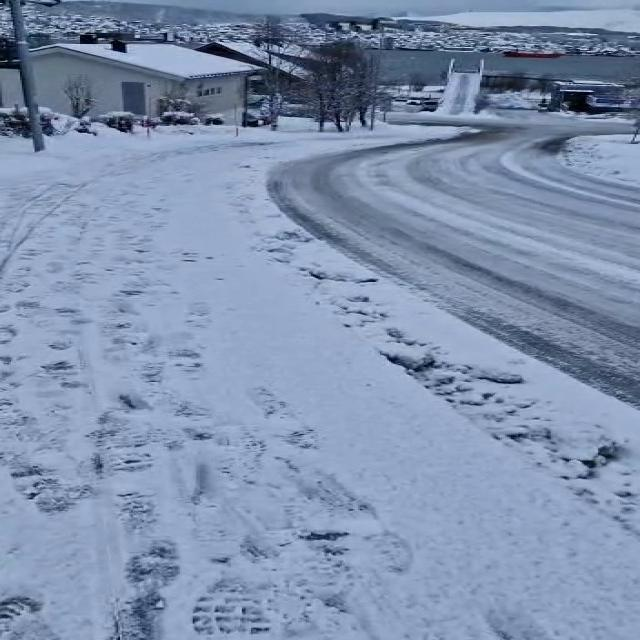path: (269, 113, 640, 402)
